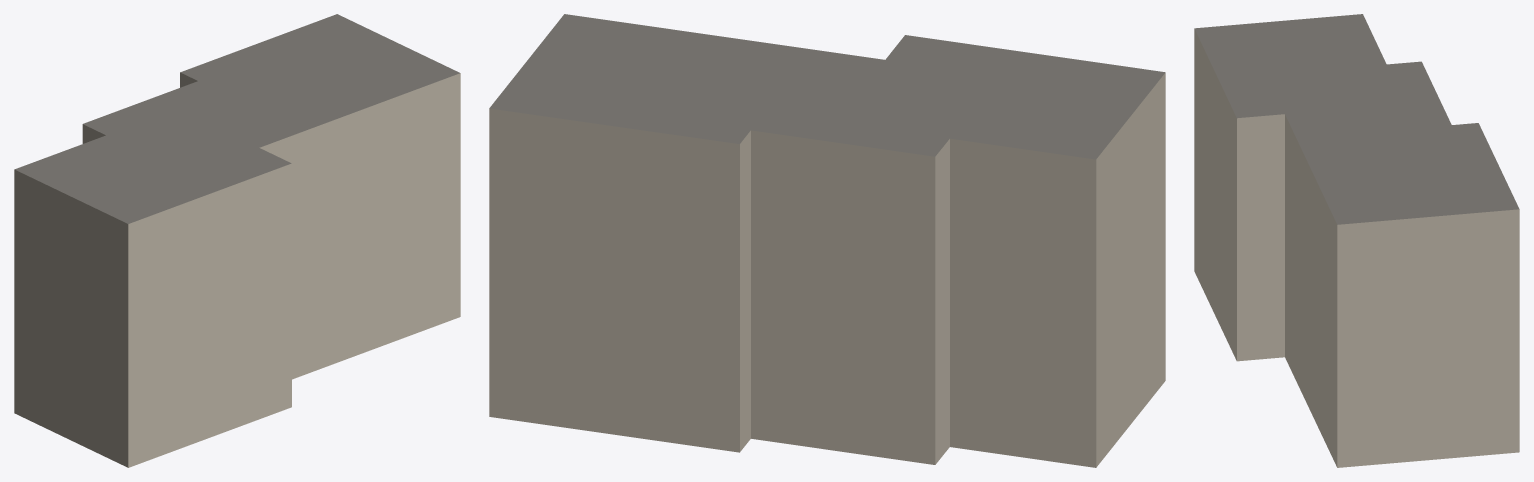
3 views of the same model, side by side, from view 1: azimuth 30°, elevation 25°; view 2: azimuth 150°, elevation 25°; view 3: azimuth 270°, elevation 25° (orthographic). The views are drawn at different scales.
Parts seen in each view (by area): view 1: HP-w299010045; view 2: HP-w299010045; view 3: HP-w299010045.
Part boxes in pixels (bbox=[...]): HP-w299010045: bbox=[14, 14, 460, 467]; HP-w299010045: bbox=[489, 14, 1165, 467]; HP-w299010045: bbox=[1194, 14, 1519, 467].
Size of the model in its own units: 33.47 by 18 by 21.82.
